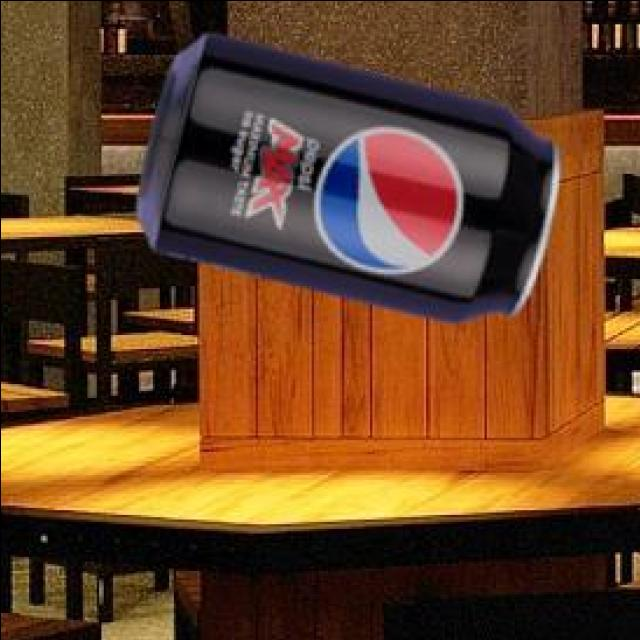logam: (132, 29, 555, 319)
